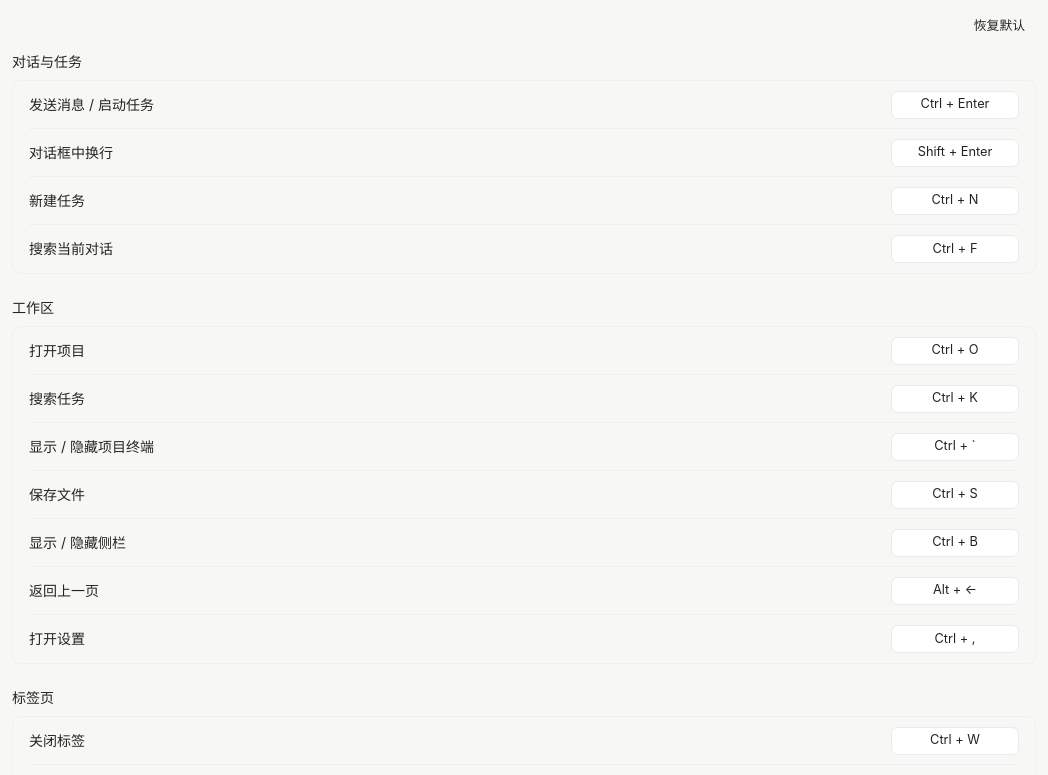
Test case: edits only the current system (Win32)
This screenshot has width=1048, height=775.
Click the button with aria-label "搜索当前对话快捷键" at coordinates (955, 249), box [891,235,1019,263]
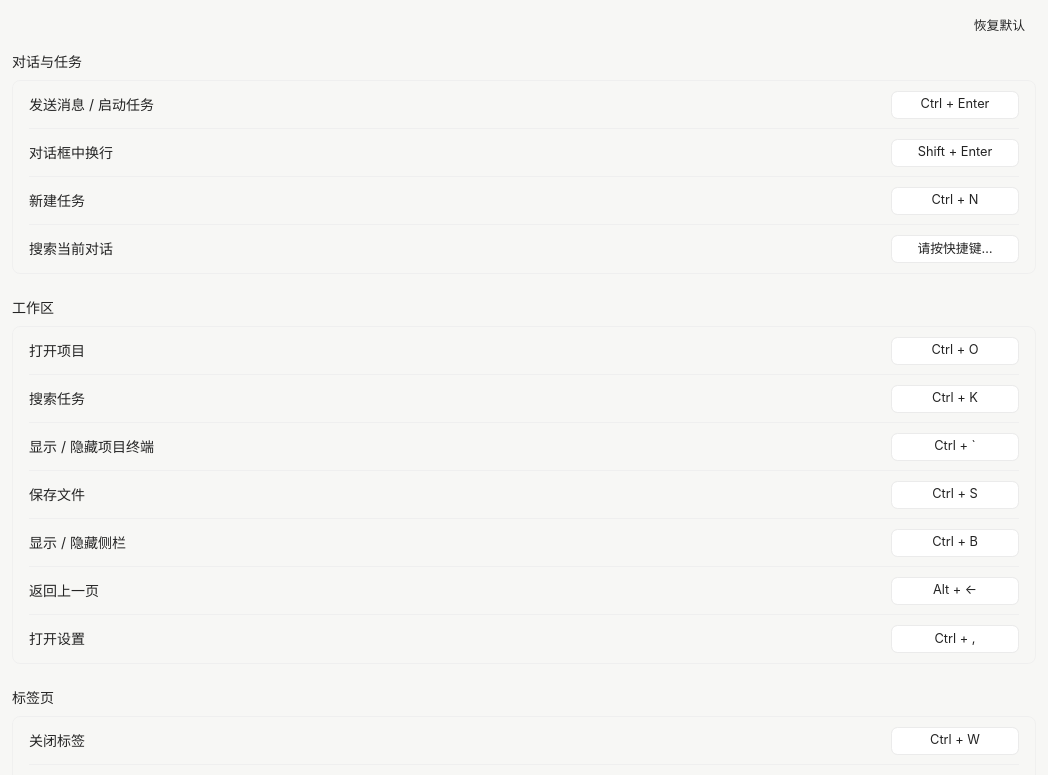
Press k in the button with aria-label "搜索当前对话快捷键", box [891,235,1019,263]
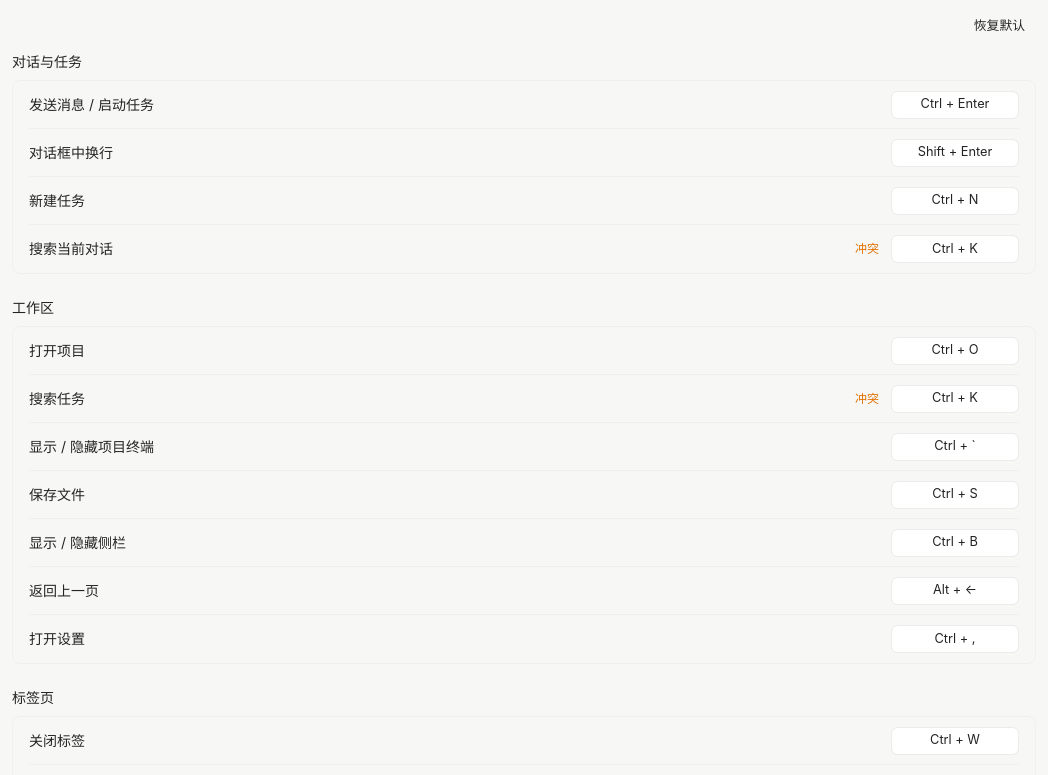
Result: the text "冲突" is shown 2 times at [855,241,879,257]; [855,390,879,406]
